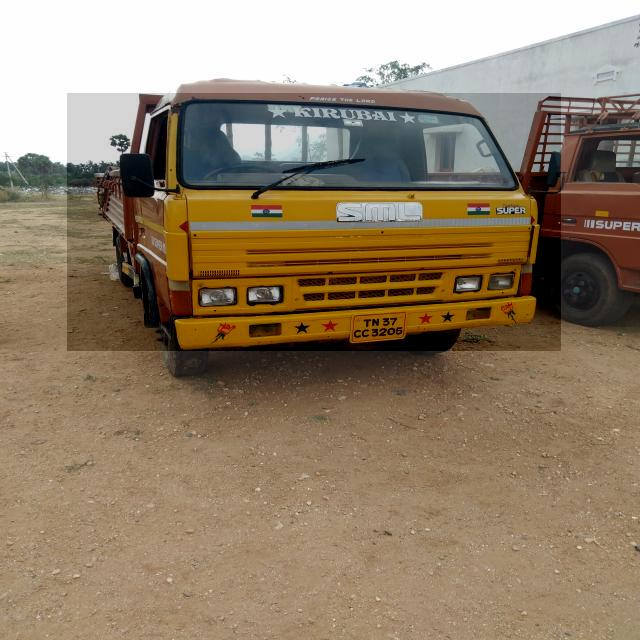Truck: (67, 93, 561, 351)
